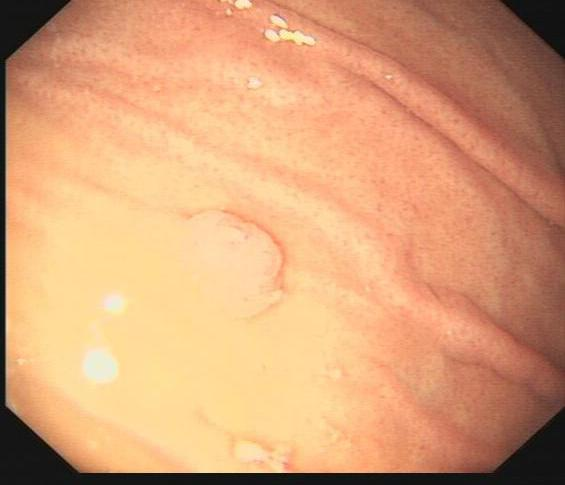Polyp: (176, 208, 290, 320)
